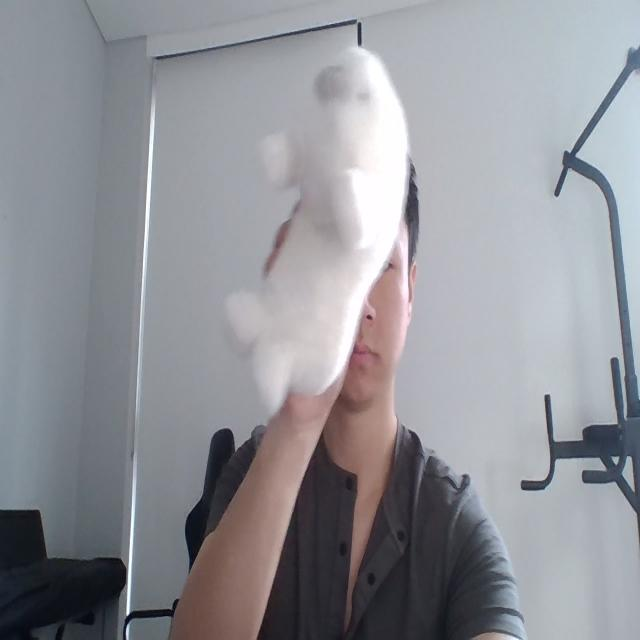seal_bb: (228, 42, 408, 412)
